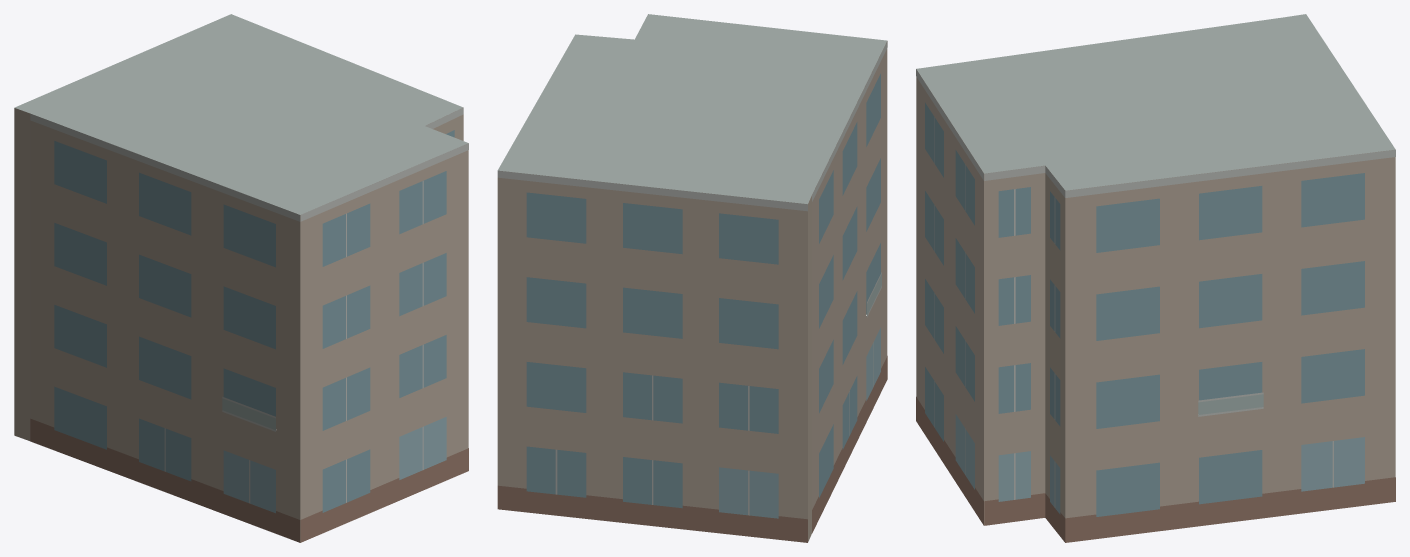
The model's file is survey-upis-32772892.glb.
3 renders of one model, left to right at view 1: azimuth 30°, elevation 25°; view 2: azimuth 150°, elevation 25°; view 3: azimuth 270°, elevation 25°, orthographic. The views are drawn at different scales.
Parts seen in each view (by area): view 1: survey-upis-32772892.tmp; view 2: survey-upis-32772892.tmp; view 3: survey-upis-32772892.tmp.
Boxes of the visible parts, x1,y1,x2,y2 form: survey-upis-32772892.tmp: [14, 14, 468, 542]; survey-upis-32772892.tmp: [497, 14, 887, 542]; survey-upis-32772892.tmp: [916, 14, 1395, 542].
Size of the model in its own units: 12.49 by 11.6 by 14.33.
